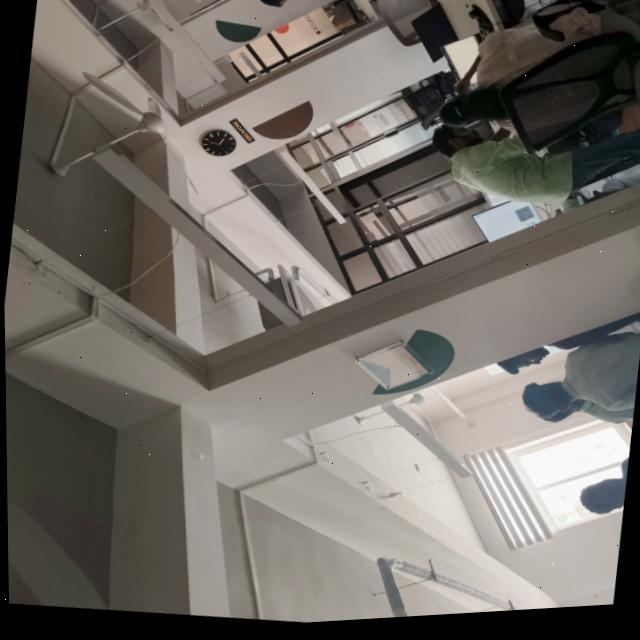fluorescent tube: (58, 114, 329, 355), (365, 366, 486, 505), (97, 0, 241, 96), (262, 142, 361, 250)
